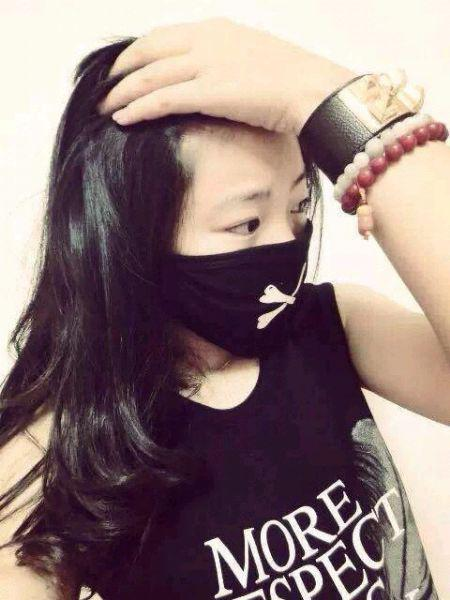OK: (152, 173, 315, 352)
